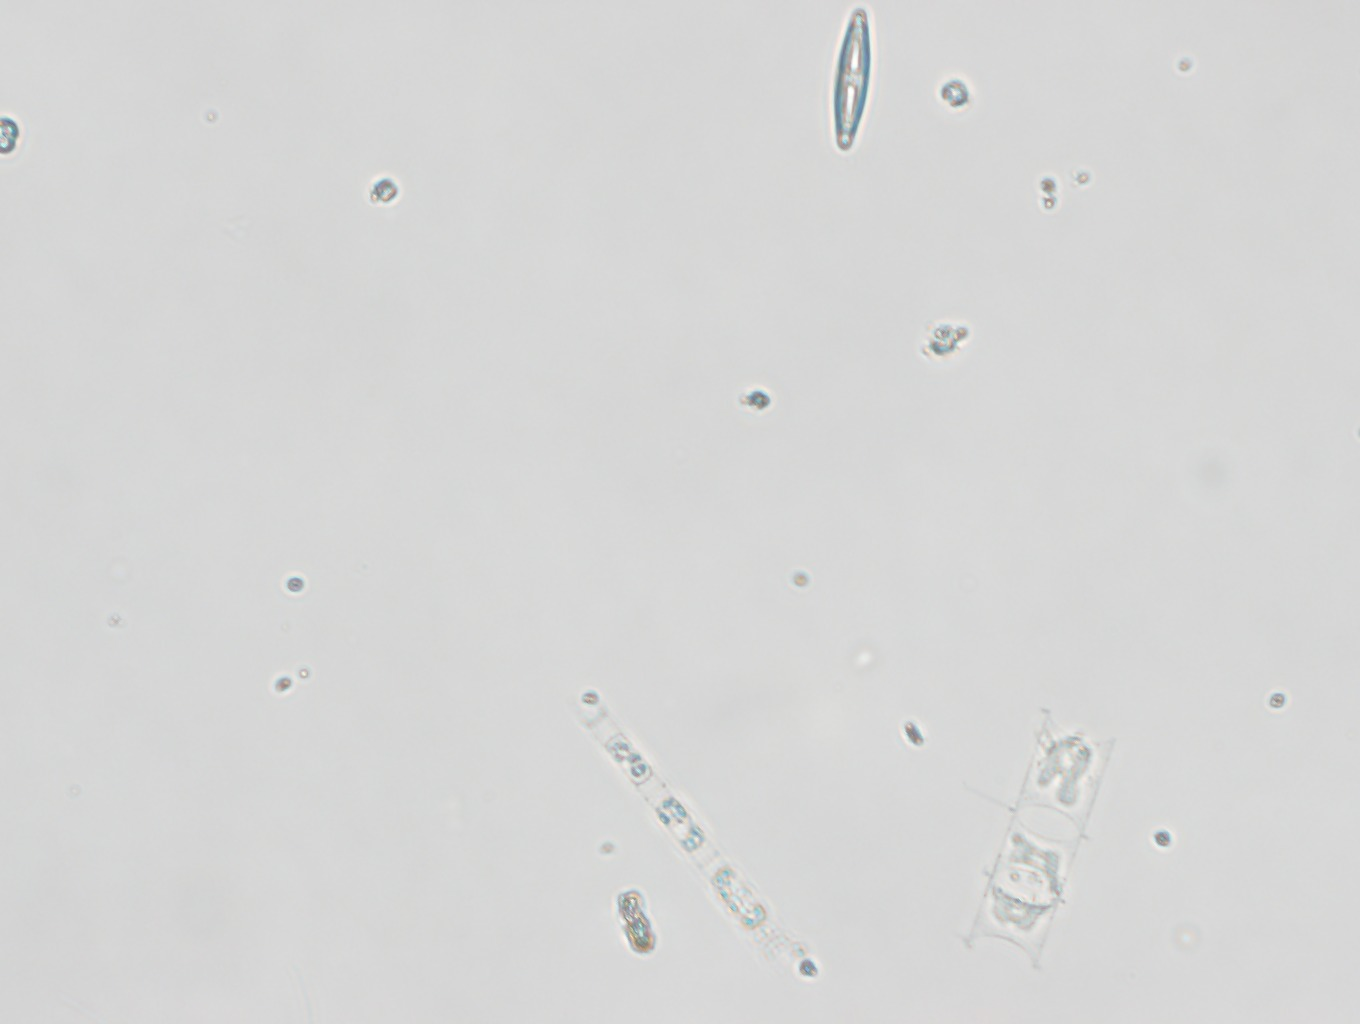chaetoceros: (943, 698, 1136, 978)
navicula: (824, 3, 879, 151)
skeletonema: (567, 689, 839, 994)
